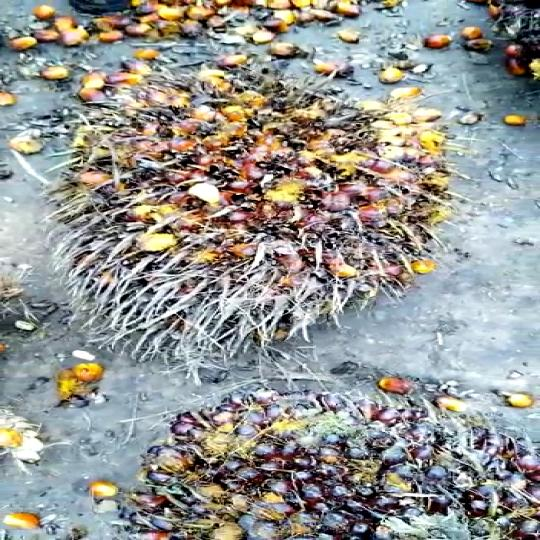terlalu masak: (56, 66, 464, 373)
